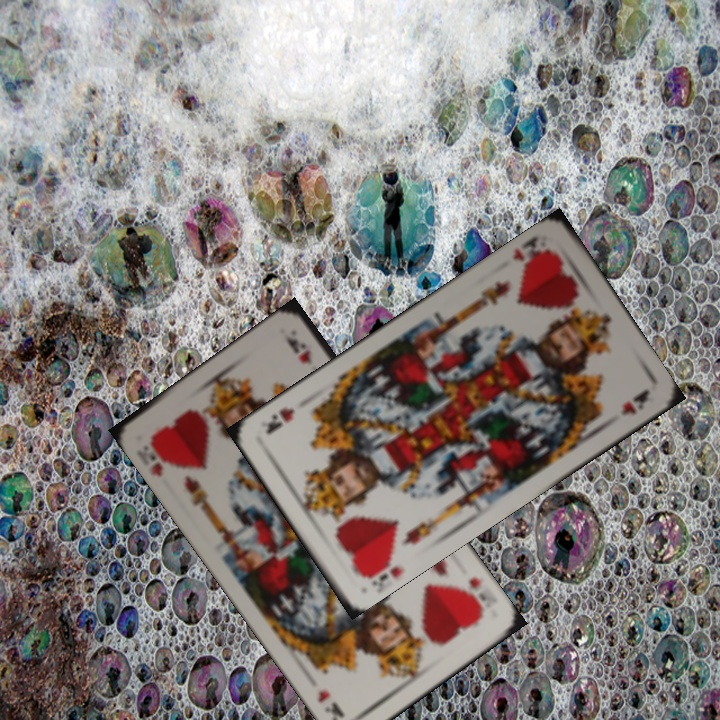HK: (356, 548, 400, 593), (508, 232, 554, 273), (458, 573, 493, 619), (145, 432, 176, 480)
